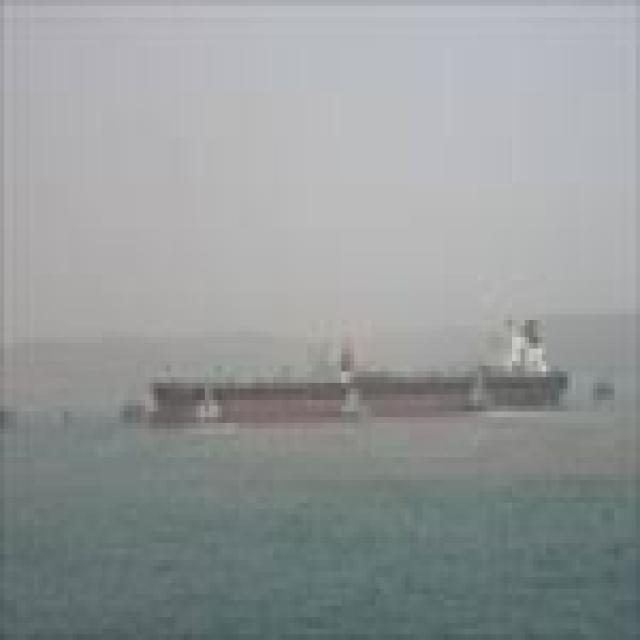cargoship: (149, 301, 568, 421)
